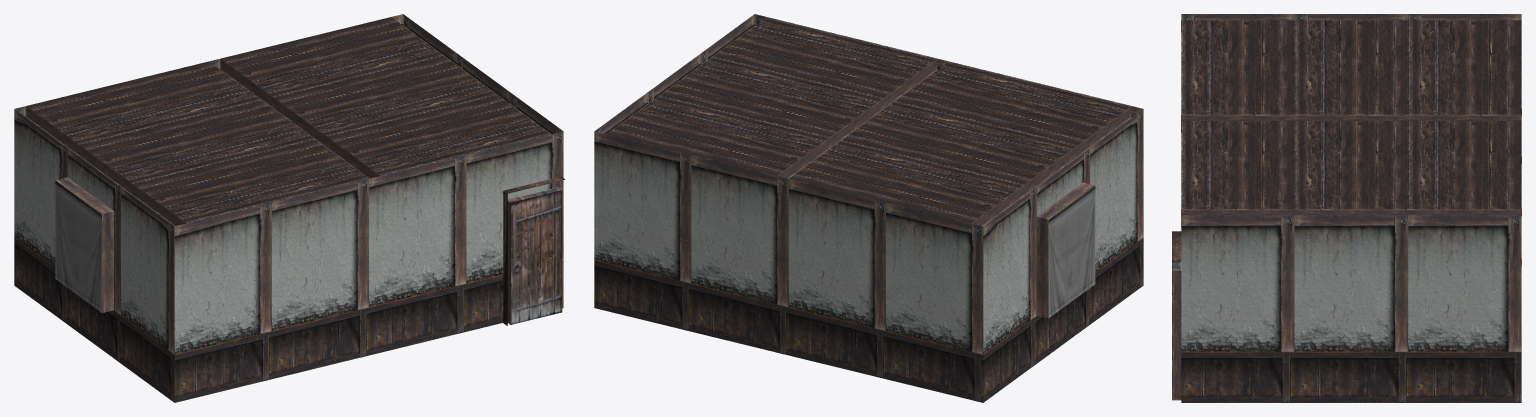
3 views of the same model, side by side, from view 1: azimuth 30°, elevation 25°; view 2: azimuth 150°, elevation 25°; view 3: azimuth 270°, elevation 25° (orthographic). The views are drawn at different scales.
Visible parts, largest first — view 1: rd_in1; view 2: rd_in1; view 3: rd_in1.
Part boxes in pixels (bbox=[...]): rd_in1: bbox=[14, 14, 564, 402]; rd_in1: bbox=[594, 14, 1143, 402]; rd_in1: bbox=[1172, 14, 1521, 402].
Bounding box in the file's own units: 7.22 × 3.04 × 5.14.
8 materials, 8 textured.
